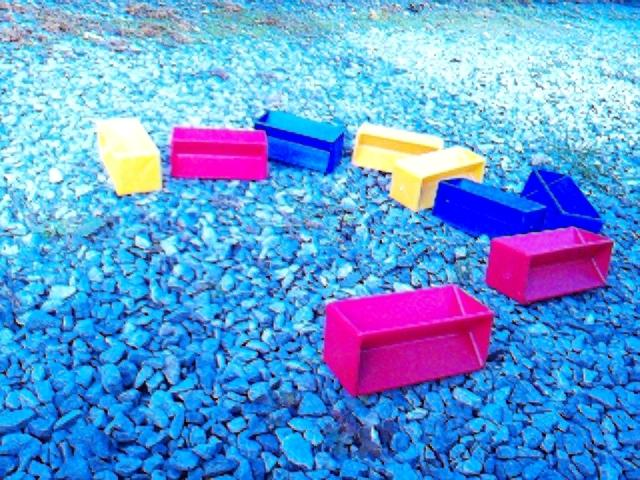blue: (432, 177, 547, 239), (254, 108, 346, 175), (519, 167, 604, 234)
red: (322, 283, 495, 398), (485, 225, 615, 306), (170, 125, 269, 182)
yellow: (390, 146, 486, 213), (96, 116, 163, 197), (351, 122, 445, 174)
